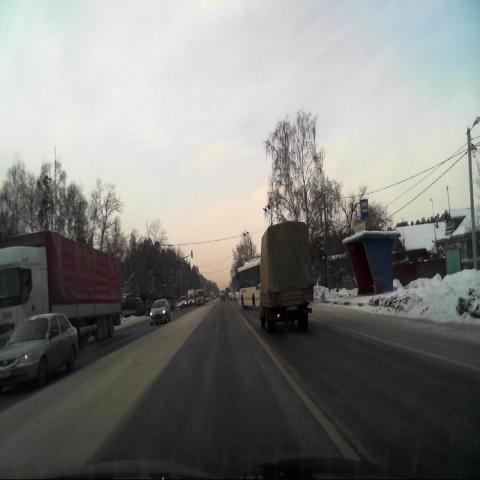5_16: (360, 198, 368, 218)
